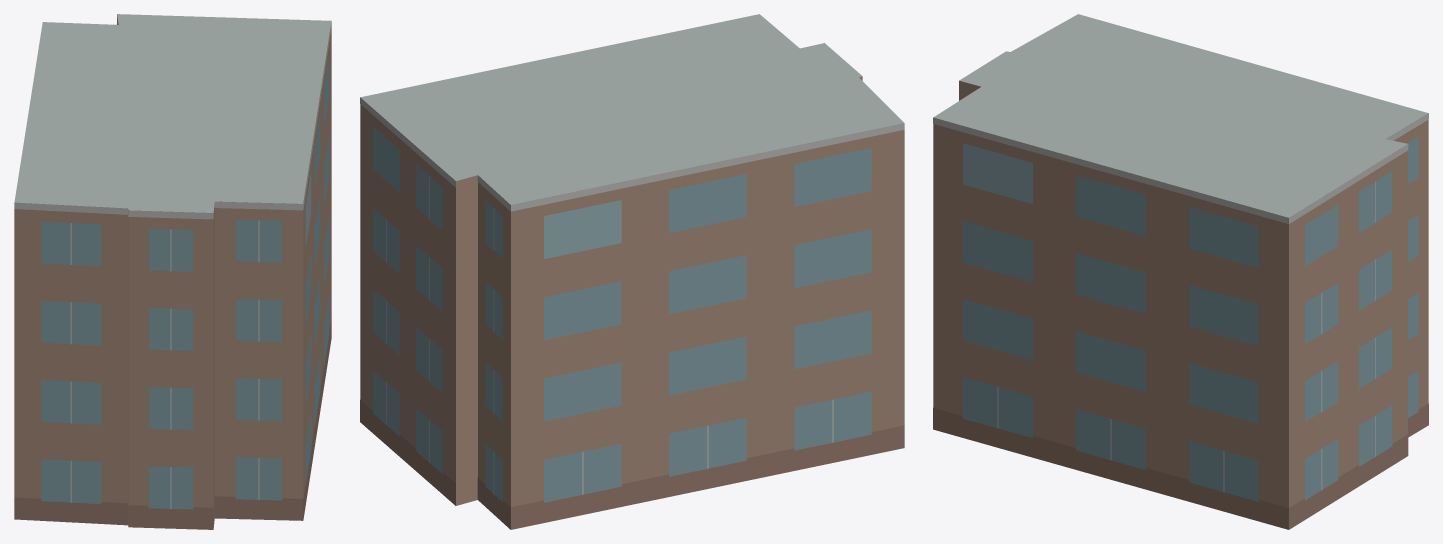
File: survey-upis-32622155.glb
3 views of the same model, side by side, from view 1: azimuth 30°, elevation 25°; view 2: azimuth 150°, elevation 25°; view 3: azimuth 270°, elevation 25° (orthographic). The views are drawn at different scales.
Parts seen in each view (by area): view 1: survey-upis-32622155.tmp; view 2: survey-upis-32622155.tmp; view 3: survey-upis-32622155.tmp.
Boxes of the visible parts, left/top/right/bottom form: survey-upis-32622155.tmp: left=14, top=14, right=331, bottom=529; survey-upis-32622155.tmp: left=360, top=14, right=904, bottom=529; survey-upis-32622155.tmp: left=933, top=14, right=1428, bottom=529.
Bounding box in the file's own units: 16.82 × 12 × 17.28.
